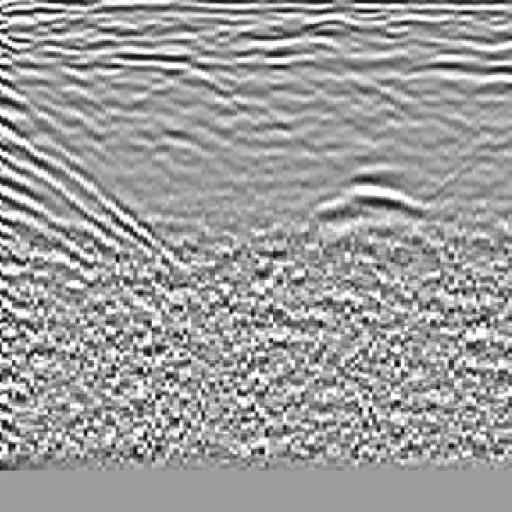metalic: (300, 152, 454, 251)
nonmetalic: (1, 36, 161, 261)
